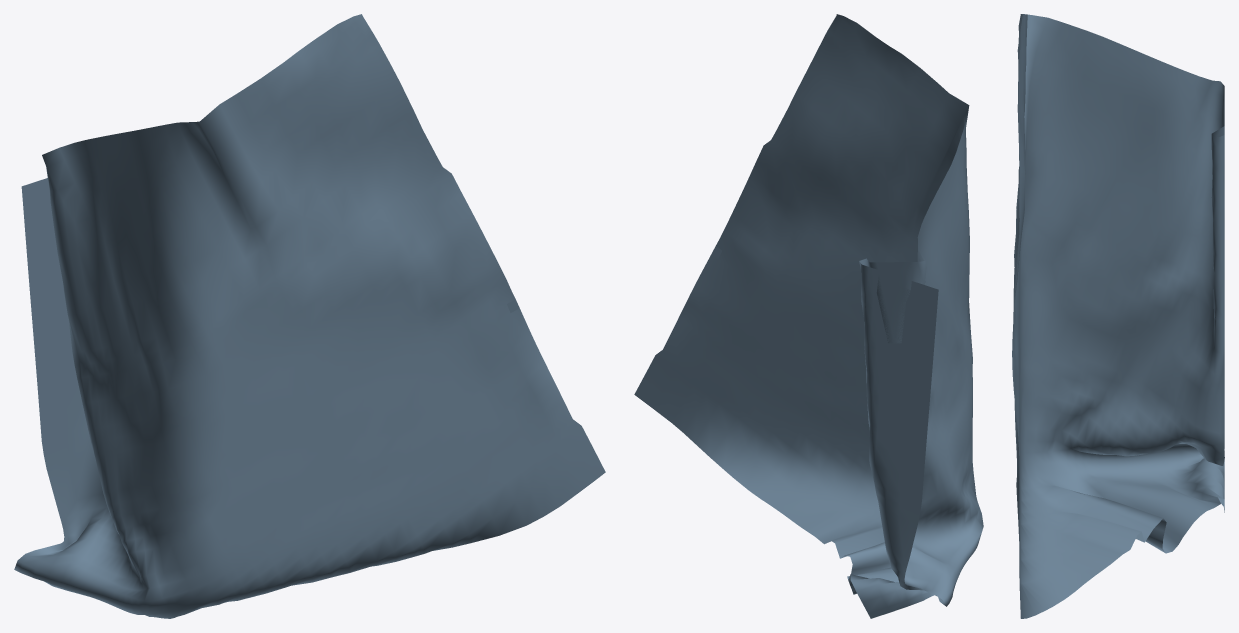
Rendered from BedsheetUnmade_19_BedsheetUnmade_2_2.obj.
3 renders of one model, left to right at view 1: azimuth 30°, elevation 25°; view 2: azimuth 150°, elevation 25°; view 3: azimuth 270°, elevation 25°, orthographic. The views are drawn at different scales.
Parts seen in each view (by area): view 1: BedsheetUnmade_2; view 2: BedsheetUnmade_2; view 3: BedsheetUnmade_2.
Boxes of the visible parts, box(x1,y1,x2,y2) form: BedsheetUnmade_2: box(14, 14, 605, 618); BedsheetUnmade_2: box(634, 14, 983, 618); BedsheetUnmade_2: box(1012, 14, 1224, 618).
Size of the model in its own units: 1.73 by 2.1 by 0.7041.
